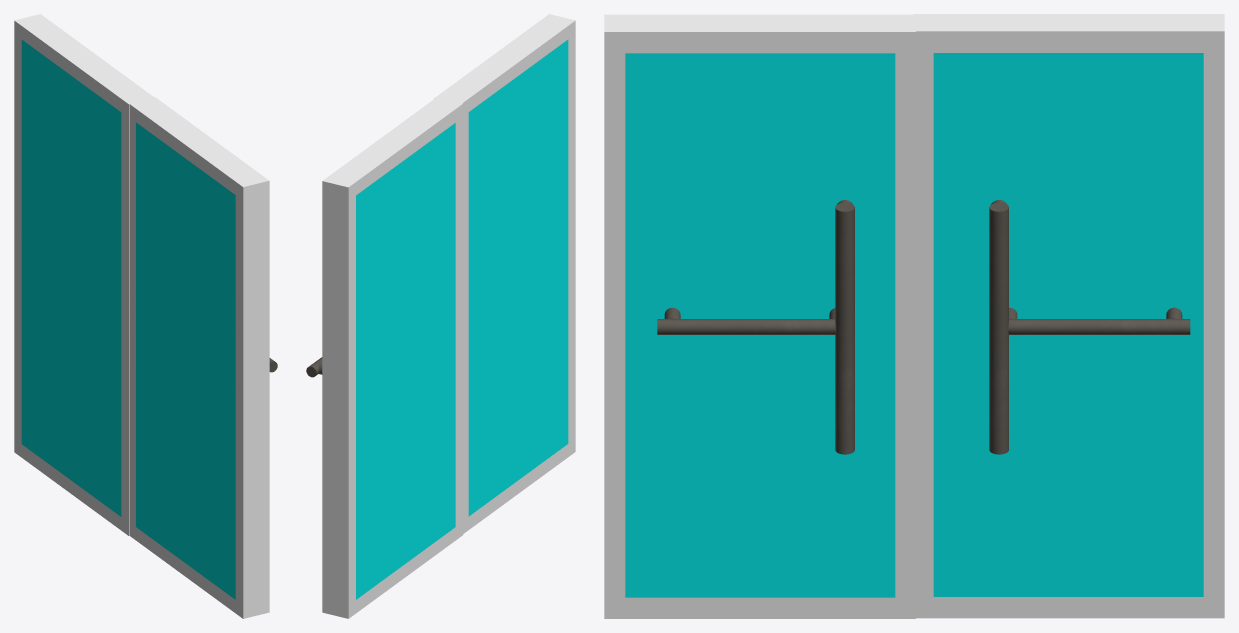
File: twodoors.fbx
The picture shows the model from 3 angles, left to right: view 1: azimuth 30°, elevation 25°; view 2: azimuth 150°, elevation 25°; view 3: azimuth 270°, elevation 25°; orthographic projection. The views are drawn at different scales.
Visible parts, largest first — view 1: polySurface4, polySurface3; view 2: polySurface3, polySurface4; view 3: polySurface4, polySurface3, pCylinder2 (×4).
Boxes of the visible parts, left/top/right/bottom form: polySurface4: left=129, top=97, right=269, bottom=618; polySurface3: left=14, top=14, right=154, bottom=535; polySurface3: left=322, top=98, right=463, bottom=618; polySurface4: left=434, top=14, right=575, bottom=533; polySurface4: left=604, top=14, right=915, bottom=618; polySurface3: left=913, top=14, right=1224, bottom=618; pCylinder2 (×4): left=657, top=202, right=1190, bottom=454.
Bounding box in the file's own units: 2.75 × 19.19 × 18.37.
Materials: 2 (1 with a texture image).
